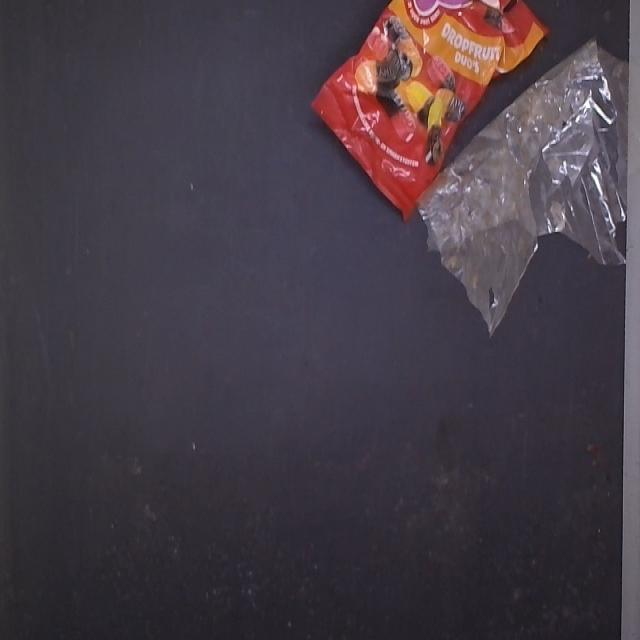food_wrapping: (306, 0, 553, 199)
plastic_films: (400, 29, 640, 319)
